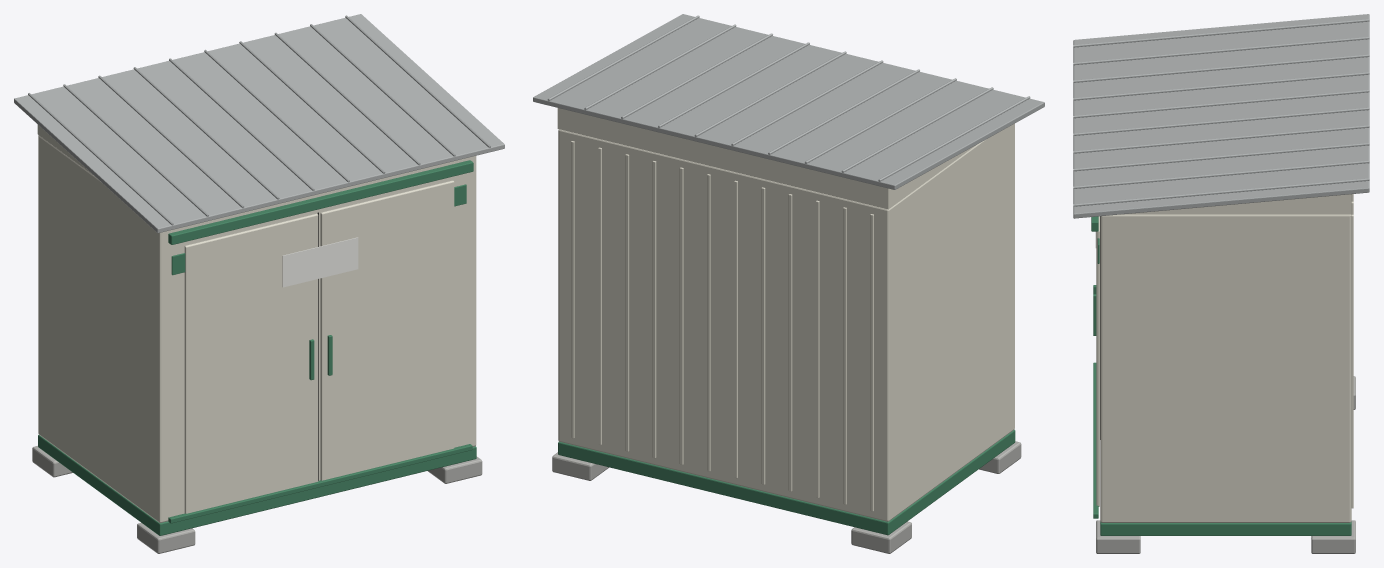
Rendered from city-disaster-supply-storage-shed.glb.
The picture shows the model from 3 angles, left to right: view 1: azimuth 30°, elevation 25°; view 2: azimuth 150°, elevation 25°; view 3: azimuth 270°, elevation 25°; orthographic projection. The views are drawn at different scales.
Parts seen in each view (by area): view 1: Assembly | Cream steel shed panels, Assembly | Grey corrugated roof steel, Assembly | Green trim steel, Assembly | Concrete footing blocks, Assembly | Blank white notice plate; view 2: Assembly | Cream steel shed panels, Assembly | Grey corrugated roof steel, Assembly | Green trim steel, Assembly | Concrete footing blocks; view 3: Assembly | Cream steel shed panels, Assembly | Grey corrugated roof steel, Assembly | Green trim steel, Assembly | Concrete footing blocks.
Boxes of the visible parts, x1,y1,x2,y2 form: Assembly | Cream steel shed panels: [37, 125, 476, 522]; Assembly | Grey corrugated roof steel: [14, 14, 504, 233]; Assembly | Green trim steel: [38, 160, 476, 535]; Assembly | Concrete footing blocks: [32, 446, 482, 553]; Assembly | Blank white notice plate: [282, 237, 358, 287]; Assembly | Cream steel shed panels: [557, 108, 1014, 521]; Assembly | Grey corrugated roof steel: [533, 14, 1044, 189]; Assembly | Green trim steel: [558, 429, 1015, 535]; Assembly | Concrete footing blocks: [552, 441, 1021, 553]; Assembly | Cream steel shed panels: [1096, 194, 1353, 522]; Assembly | Grey corrugated roof steel: [1073, 14, 1369, 218]; Assembly | Green trim steel: [1091, 216, 1351, 535]; Assembly | Concrete footing blocks: [1096, 376, 1355, 553].
Bounding box in the file's own units: 2.3 × 2.3 × 1.65.
